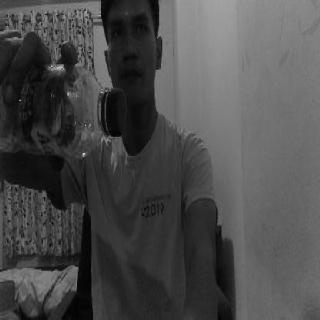plastic_bottles: (4, 61, 128, 156)
